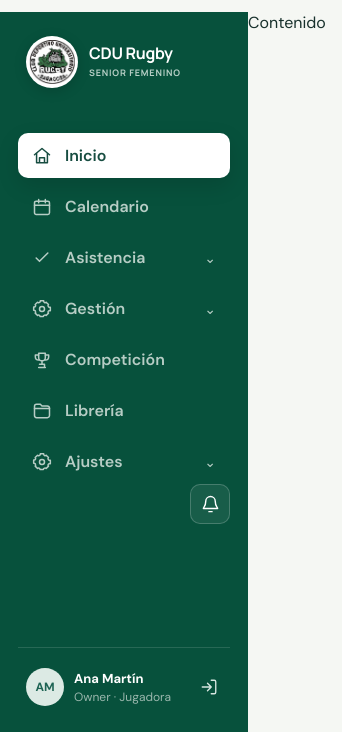
Test case: AppLayout › closes an open submenu when clicking outside navigation
Click the button "Ajustes ⌄": (124, 462) [18,439,230,484]
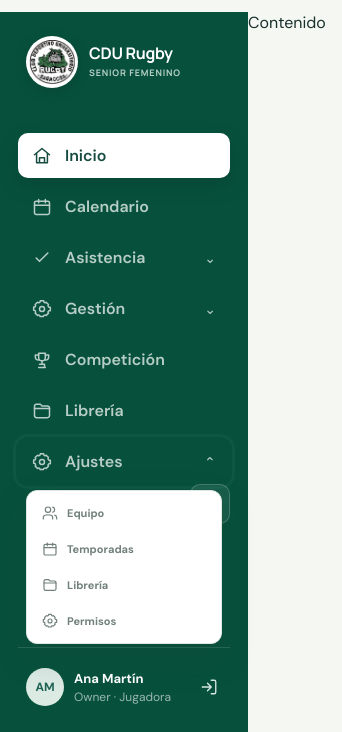
Expected: the menu is shown, [26,490,222,644]
Click the text "Contenido": (287, 22) [248,12,326,33]
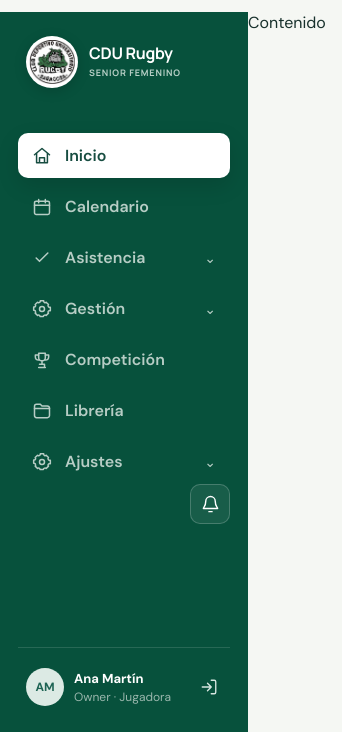
Expected: the menu is gone
